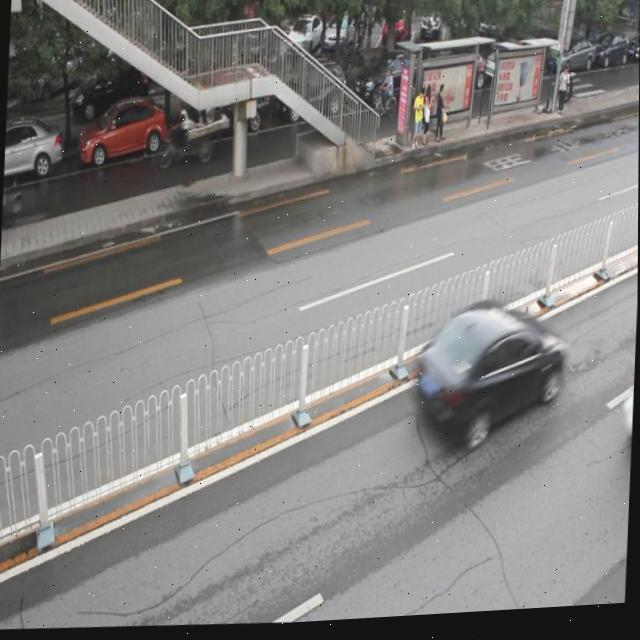car: (411, 296, 567, 458), (76, 93, 169, 169), (177, 73, 270, 145), (276, 61, 348, 128), (354, 50, 428, 112), (4, 113, 63, 183)
